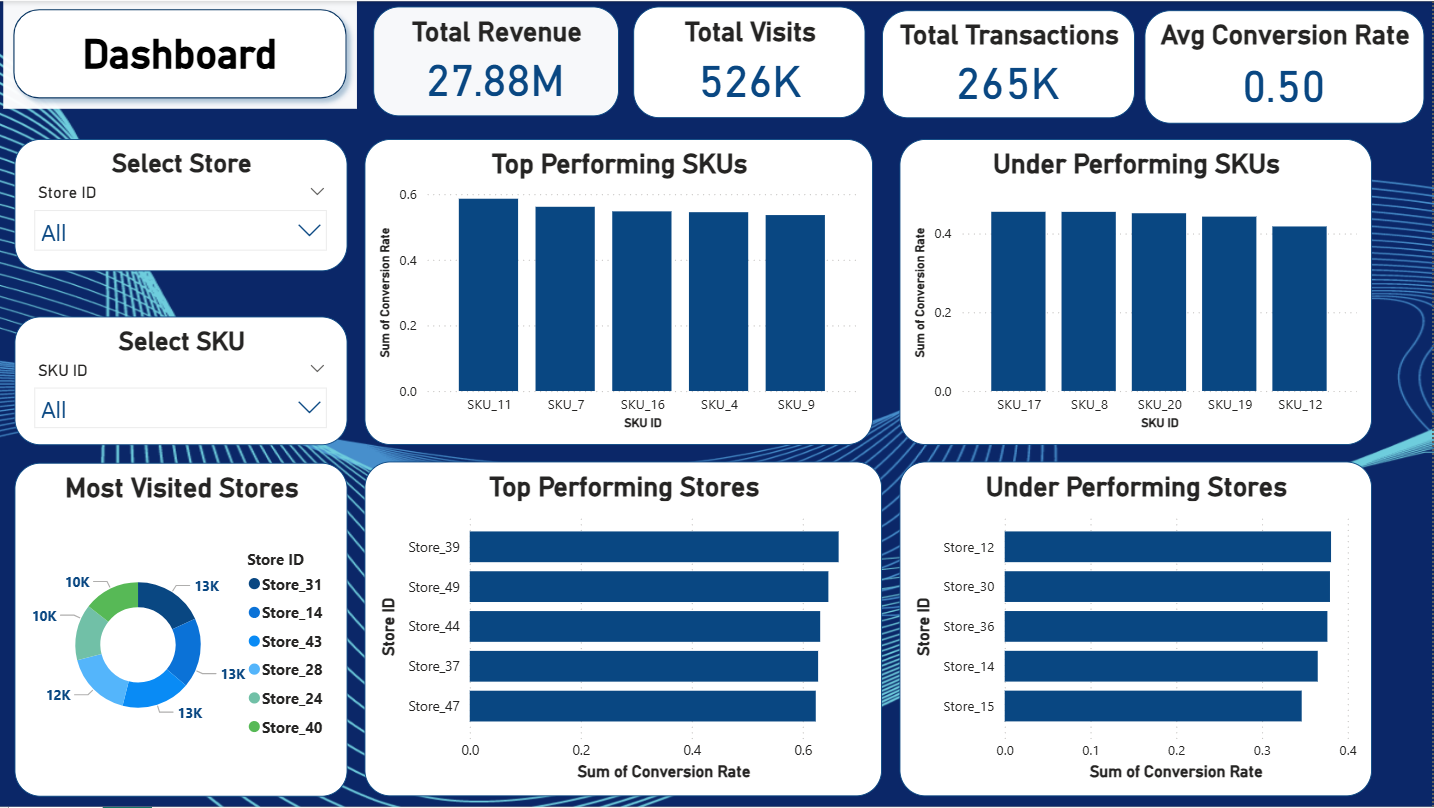

The dashboard page shown, as its layout file describes it:
{"tool":"powerbi","page":{"name":"Page 1","canvas":[1280,720],"ordinal":0},"visuals":[{"type":"shape","box":[10.1,0,314.1,97.4],"z":0},{"type":"card","title":"Total Revenue","fields":{"Values":["Sum(store_sku_ba_dataset.Revenue)"]},"box":[339.3,6.7,218.4,97.4],"z":1000},{"type":"card","title":"Total Visits","fields":{"Values":["Sum(store_sku_ba_dataset.Total Visits)"]},"box":[569.4,6.7,206.6,99.1],"z":2000},{"type":"card","title":"Total Transactions","fields":{"Values":["Sum(store_sku_ba_dataset.Transactions)"]},"box":[791.2,10.1,225.1,95.7],"z":3000},{"type":"slicer","title":"Select Store","fields":{"Values":["store_sku_ba_dataset.Store ID"]},"box":[20.2,124.3,295.6,117.6],"z":4000},{"type":"slicer","title":"Select SKU","fields":{"Values":["store_sku_ba_dataset.SKU ID"]},"box":[20.2,282.2,295.6,114.2],"z":5000},{"type":"card","title":"Avg Conversion Rate","fields":{"Values":["Avg(store_sku_ba_dataset.Conversion Rate)"]},"box":[1024.7,10.1,248.6,100.8],"z":6000},{"type":"clusteredColumnChart","title":"Top Performing SKUs","fields":{"Category":["SKU Summary.SKU ID"],"Y":["Sum(SKU Summary.Conversion Rate)"]},"box":[330.9,124.3,451.9,272.1],"z":7000},{"type":"clusteredColumnChart","title":"Under Performing SKUs","fields":{"Y":["Sum(SKU Summary.Conversion Rate)"],"Category":["SKU Summary.SKU ID"]},"box":[806.3,124.3,419.9,272.1],"z":8000},{"type":"clusteredBarChart","title":"Top Performing Stores","fields":{"Y":["Sum(Store Summary.Conversion Rate)"],"Category":["Store Summary.Store ID"]},"box":[330.9,411.5,460.3,297.3],"z":9000},{"type":"clusteredBarChart","title":"Under Performing Stores","fields":{"Y":["Sum(Store Summary.Conversion Rate)"],"Category":["Store Summary.Store ID"]},"box":[806.3,411.5,419.9,297.3],"z":10000},{"type":"donutChart","title":"Most Visited Stores","fields":{"Category":["Store Summary.Store ID"],"Y":["Sum(Store Summary.Total Visits)"]},"box":[20,412,296,297],"z":11000}]}

Visuals, with their boxes in screenshot pixels (x1, y1, x2, y2), scaled from the page's 1280x720 canvas onto the 1434x808 screenshot:
shape: (11,0,363,109)
"Total Revenue" card: (380,8,625,117)
"Total Visits" card: (638,8,869,119)
"Total Transactions" card: (886,11,1139,119)
"Select Store" slicer: (23,139,354,271)
"Select SKU" slicer: (23,317,354,445)
"Avg Conversion Rate" card: (1148,11,1426,124)
"Top Performing SKUs" clusteredColumnChart: (371,139,877,445)
"Under Performing SKUs" clusteredColumnChart: (903,139,1374,445)
"Top Performing Stores" clusteredBarChart: (371,462,886,795)
"Under Performing Stores" clusteredBarChart: (903,462,1374,795)
"Most Visited Stores" donutChart: (22,462,354,796)
